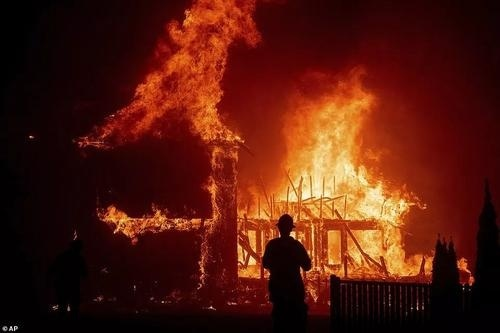fire: (91, 7, 442, 293), (237, 53, 426, 297)
